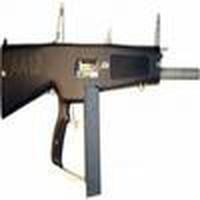gun: (1, 30, 200, 149)
